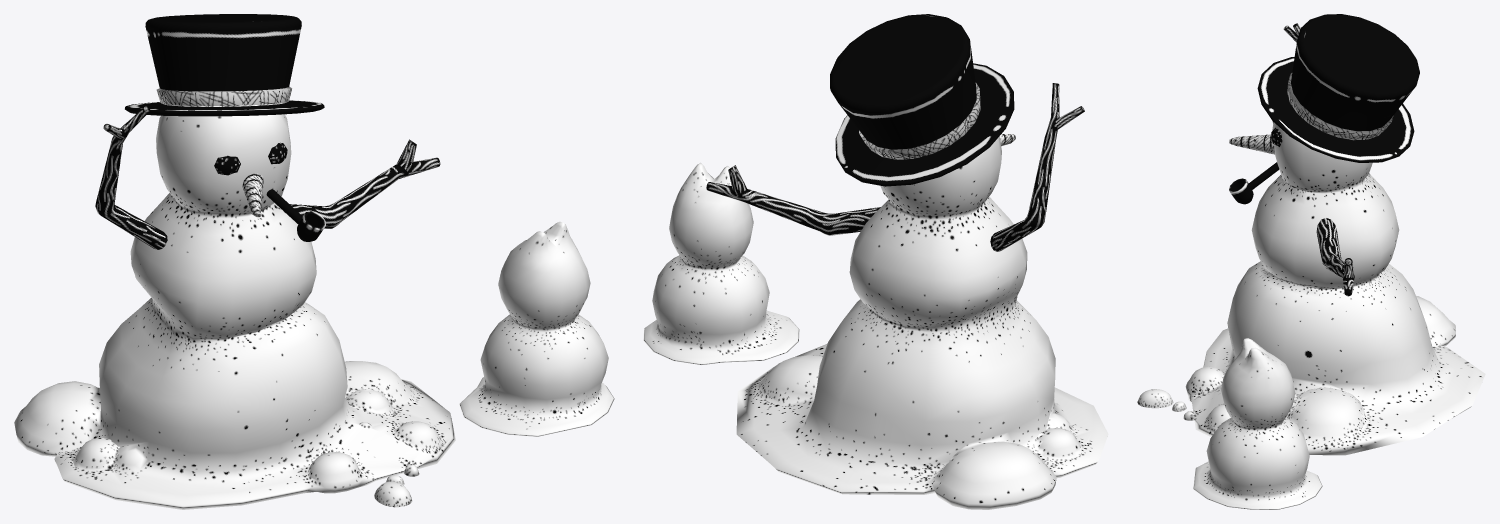
Rendered from snow.glb.
3 renders of one model, left to right at view 1: azimuth 30°, elevation 25°; view 2: azimuth 150°, elevation 25°; view 3: azimuth 270°, elevation 25°, orthographic. The views are drawn at different scales.
Visible parts, largest first — view 1: SnowManAndCat; view 2: SnowManAndCat; view 3: SnowManAndCat.
Part boxes in pixels (<box>): SnowManAndCat: <box>14,14,614,509</box>; SnowManAndCat: <box>643,14,1108,509</box>; SnowManAndCat: <box>1137,14,1485,509</box>.
Size of the model in its own units: 244 by 197 by 177.
1 material, 1 textured.
